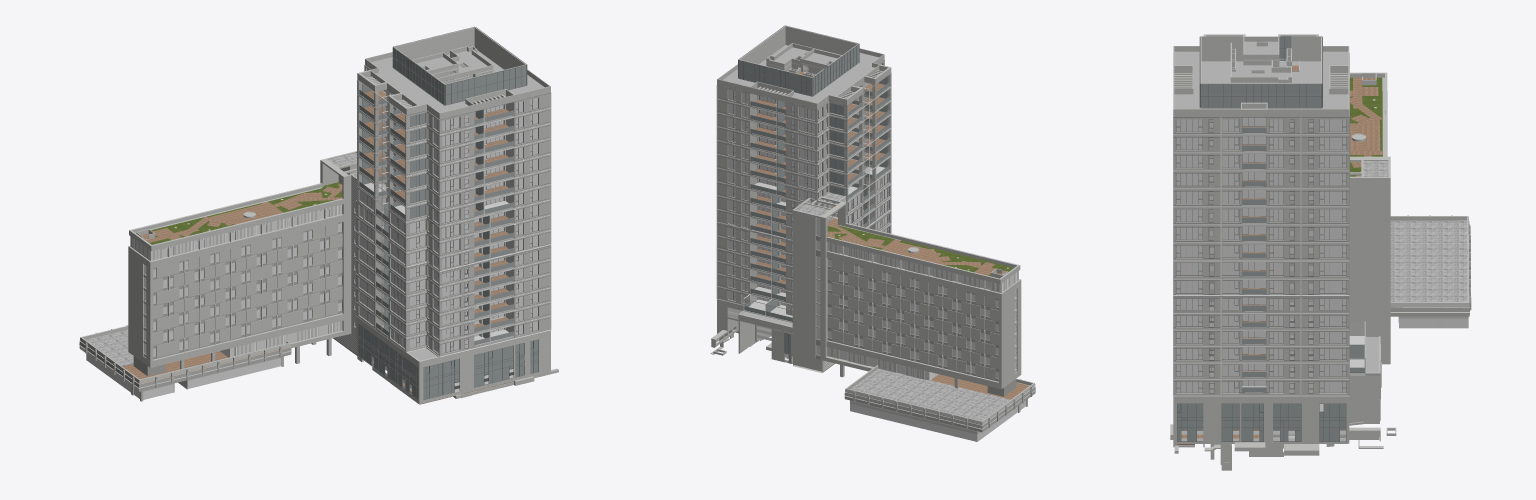
The picture shows the model from 3 angles, left to right: view 1: azimuth 30°, elevation 25°; view 2: azimuth 150°, elevation 25°; view 3: azimuth 270°, elevation 25°; orthographic projection. The views are drawn at different scales.
Visible parts, largest first — view 1: !plita, !wl_evn40, Floor_17_building_01, Floor_00_building_01, !alukbond, !win_shp, !wood, !ramka, Floor_07_building_01, Floor_08_building_01, Floor_09_building_01, Floor_02_building_01 (+25 smaller); view 2: !wl_evn40, !plita, Floor_17_building_01, !alukbond, !win_shp, !roof, Floor_00_building_01, !wood, !ramka, Floor_16_building_01, Floor_12_building_01, Floor_14_building_01 (+13 smaller); view 3: Floor_17_building_01, Floor_00_building_01, !wl_evn40, !roof, Floor_10_building_01, Floor_16_building_01, Floor_09_building_01, Floor_12_building_01, Floor_14_building_01, Floor_15_building_01, Floor_08_building_01, Floor_13_building_01 (+31 smaller).
Part boxes in pixels (<box>): !plita: <box>153,223,342,357</box>; !wl_evn40: <box>128,162,351,401</box>; Floor_17_building_01: <box>357,26,550,119</box>; Floor_00_building_01: <box>356,316,550,404</box>; !alukbond: <box>79,175,357,387</box>; !win_shp: <box>86,209,355,399</box>; !wood: <box>130,204,342,357</box>; !ramka: <box>79,325,291,391</box>; Floor_07_building_01: <box>356,217,550,274</box>; Floor_08_building_01: <box>356,200,550,258</box>; Floor_09_building_01: <box>356,187,550,243</box>; Floor_02_building_01: <box>356,288,550,344</box>; !wl_evn40: <box>792,200,1027,412</box>; !plita: <box>827,259,998,380</box>; Floor_17_building_01: <box>717,25,891,109</box>; !alukbond: <box>816,197,1035,428</box>; !win_shp: <box>816,217,1026,441</box>; !roof: <box>796,192,1010,425</box>; Floor_00_building_01: <box>717,299,824,371</box>; !wood: <box>827,242,1018,380</box>; !ramka: <box>844,365,1035,432</box>; Floor_16_building_01: <box>717,61,884,124</box>; Floor_12_building_01: <box>717,140,828,179</box>; Floor_14_building_01: <box>717,113,828,152</box>; Floor_17_building_01: <box>1173,34,1349,116</box>; Floor_00_building_01: <box>1173,336,1380,470</box>; !wl_evn40: <box>1349,72,1390,387</box>; !roof: <box>1363,161,1468,307</box>; Floor_10_building_01: <box>1173,225,1348,245</box>; Floor_16_building_01: <box>1173,117,1348,137</box>; Floor_09_building_01: <box>1173,243,1348,262</box>; Floor_12_building_01: <box>1173,189,1348,209</box>; Floor_14_building_01: <box>1173,153,1348,173</box>; Floor_15_building_01: <box>1173,135,1348,155</box>; Floor_08_building_01: <box>1173,261,1348,280</box>; Floor_13_building_01: <box>1173,171,1348,191</box>.
Size of what is drawn, in the model's own units: 108 by 78.38 by 66.42.
15 materials, 8 textured.
